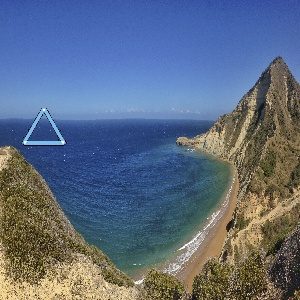triangle: (20, 105, 68, 148)
